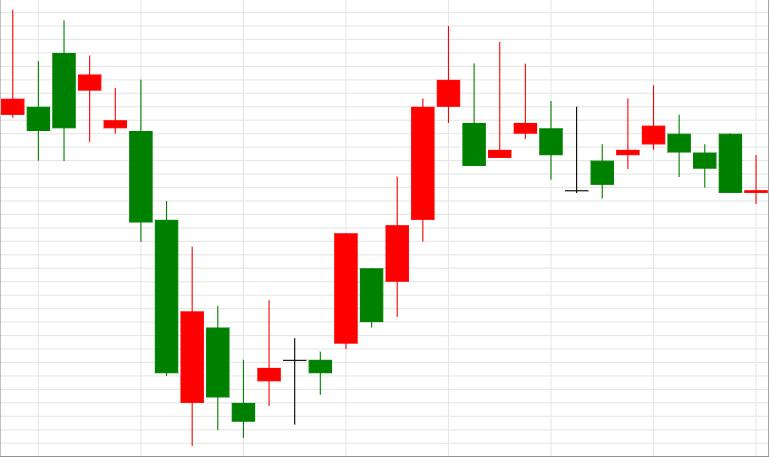shooting_star_fall: (334, 26, 459, 349)
